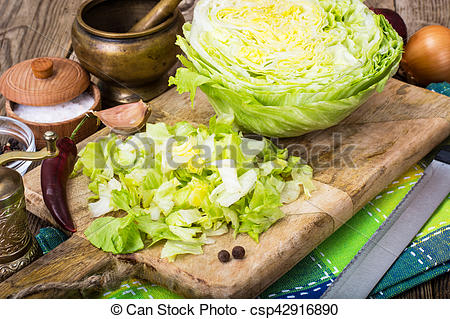chopped lettuce: (116, 7, 377, 228)
